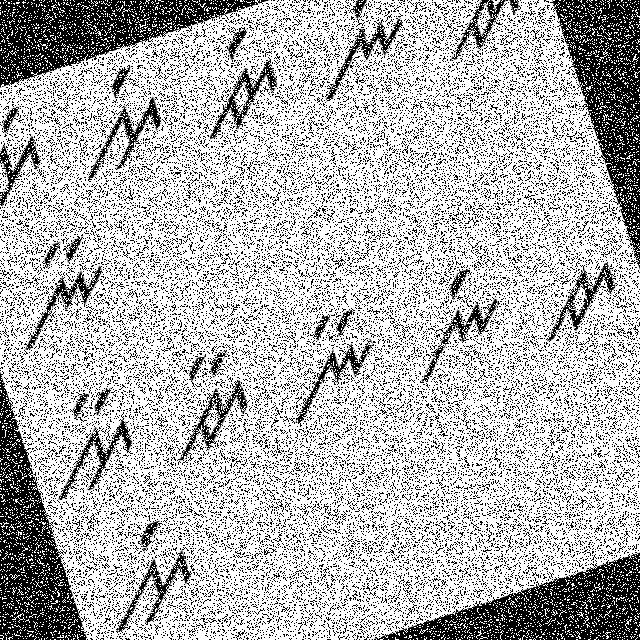ja: (519, 239, 630, 344), (420, 0, 539, 70)
jan: (147, 338, 265, 472)
jang: (172, 18, 297, 146)
nyan: (255, 291, 398, 431), (0, 221, 125, 362)
nyang: (381, 248, 528, 394), (294, 0, 426, 107)
san: (19, 370, 150, 508), (0, 93, 61, 225)
sang: (75, 507, 211, 639), (48, 55, 180, 188)
